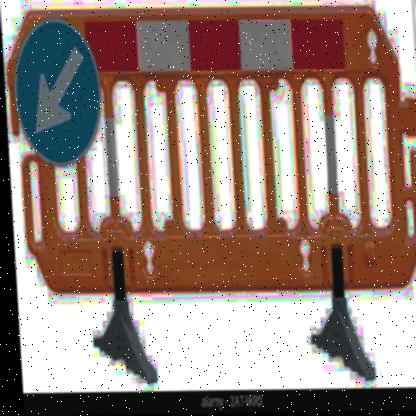Keep left: (10, 14, 106, 169)
